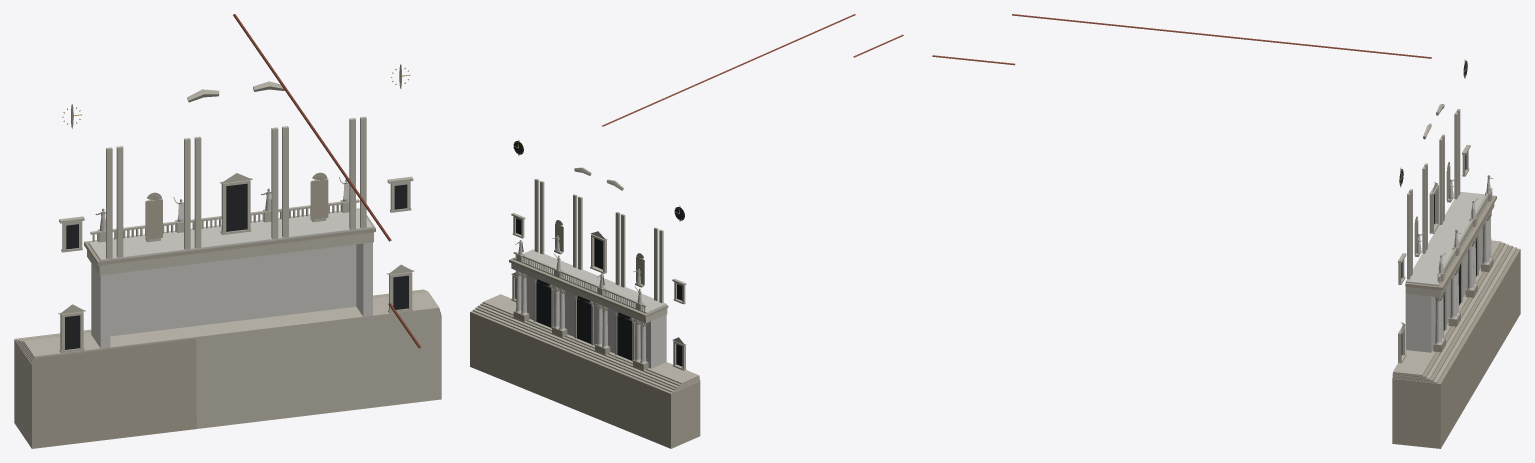
3 views of the same model, side by side, from view 1: azimuth 30°, elevation 25°; view 2: azimuth 150°, elevation 25°; view 3: azimuth 270°, elevation 25° (orthographic). The views are drawn at different scales.
Parts seen in each view (by area): view 1: detail; view 2: detail; view 3: detail.
Part boxes in pixels (x1,y1,x2,y2): detail: (14, 14, 441, 448); detail: (470, 14, 903, 448); detail: (932, 14, 1520, 448).
Size of the model in its own units: 42.6 by 45.01 by 75.51.
